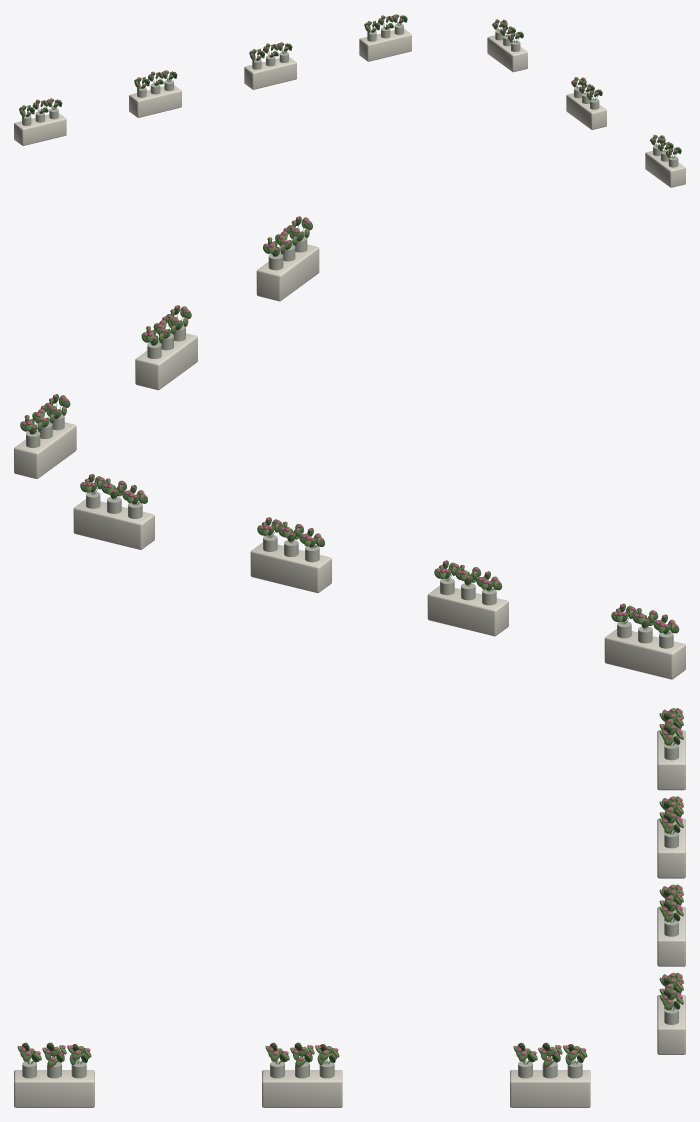
The model's file is blumenkaesten.glb.
3 renders of one model, top to bottom at view 1: azimuth 30°, elevation 25°; view 2: azimuth 150°, elevation 25°; view 3: azimuth 270°, elevation 25°, orthographic. The views are drawn at different scales.
Visible parts, largest first — view 1: NK_n_Balkon_Blumenkasten, NK_n_Balkon_Blumenkasten.002, NK_n_Balkon_Blumenkasten.003, NK_n_Balkon_Blumenkasten.001, NK_e_Balkon_Blumenkasten.003, NK_e_Balkon_Blumenkasten.002, NK_e_Balkon_Blumenkasten.001; view 2: NK_n_Balkon_Blumenkasten.003, NK_n_Balkon_Blumenkasten, NK_n_Balkon_Blumenkasten.001, NK_n_Balkon_Blumenkasten.002, NK_e_Balkon_Blumenkasten.003, NK_e_Balkon_Blumenkasten.002, NK_e_Balkon_Blumenkasten.001; view 3: NK_e_Balkon_Blumenkasten.003, NK_e_Balkon_Blumenkasten.002, NK_e_Balkon_Blumenkasten.001, NK_n_Balkon_Blumenkasten, NK_n_Balkon_Blumenkasten.001, NK_n_Balkon_Blumenkasten.002, NK_n_Balkon_Blumenkasten.003.
Part boxes in pixels (x1=…): NK_n_Balkon_Blumenkasten: x1=14, y1=113, x2=66, y2=145; NK_n_Balkon_Blumenkasten.002: x1=244, y1=57, x2=296, y2=89; NK_n_Balkon_Blumenkasten.003: x1=359, y1=29, x2=411, y2=61; NK_n_Balkon_Blumenkasten.001: x1=129, y1=85, x2=181, y2=117; NK_e_Balkon_Blumenkasten.003: x1=645, y1=151, x2=685, y2=187; NK_e_Balkon_Blumenkasten.002: x1=487, y1=35, x2=527, y2=72; NK_e_Balkon_Blumenkasten.001: x1=566, y1=93, x2=606, y2=129; NK_n_Balkon_Blumenkasten.003: x1=73, y1=499, x2=154, y2=549; NK_n_Balkon_Blumenkasten: x1=604, y1=629, x2=685, y2=679; NK_n_Balkon_Blumenkasten.001: x1=427, y1=586, x2=508, y2=636; NK_n_Balkon_Blumenkasten.002: x1=250, y1=542, x2=331, y2=593; NK_e_Balkon_Blumenkasten.003: x1=256, y1=244, x2=319, y2=301; NK_e_Balkon_Blumenkasten.002: x1=14, y1=422, x2=76, y2=478; NK_e_Balkon_Blumenkasten.001: x1=135, y1=333, x2=197, y2=390; NK_e_Balkon_Blumenkasten.003: x1=14, y1=1070, x2=94, y2=1107; NK_e_Balkon_Blumenkasten.002: x1=510, y1=1070, x2=590, y2=1107; NK_e_Balkon_Blumenkasten.001: x1=262, y1=1070, x2=342, y2=1107; NK_n_Balkon_Blumenkasten: x1=657, y1=730, x2=685, y2=790; NK_n_Balkon_Blumenkasten.001: x1=657, y1=818, x2=685, y2=878; NK_n_Balkon_Blumenkasten.002: x1=657, y1=906, x2=685, y2=966; NK_n_Balkon_Blumenkasten.003: x1=657, y1=995, x2=685, y2=1054.
Bounding box in the file's own units: 6.38 × 0.4902 × 5.15.
